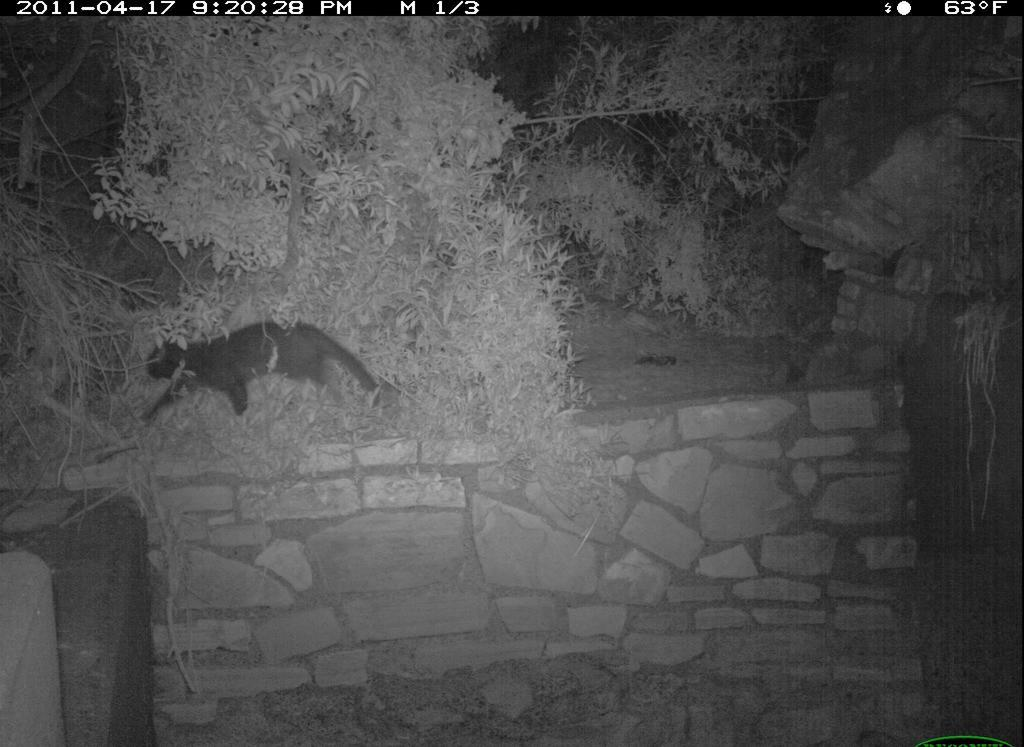cat: (116, 315, 388, 436)
